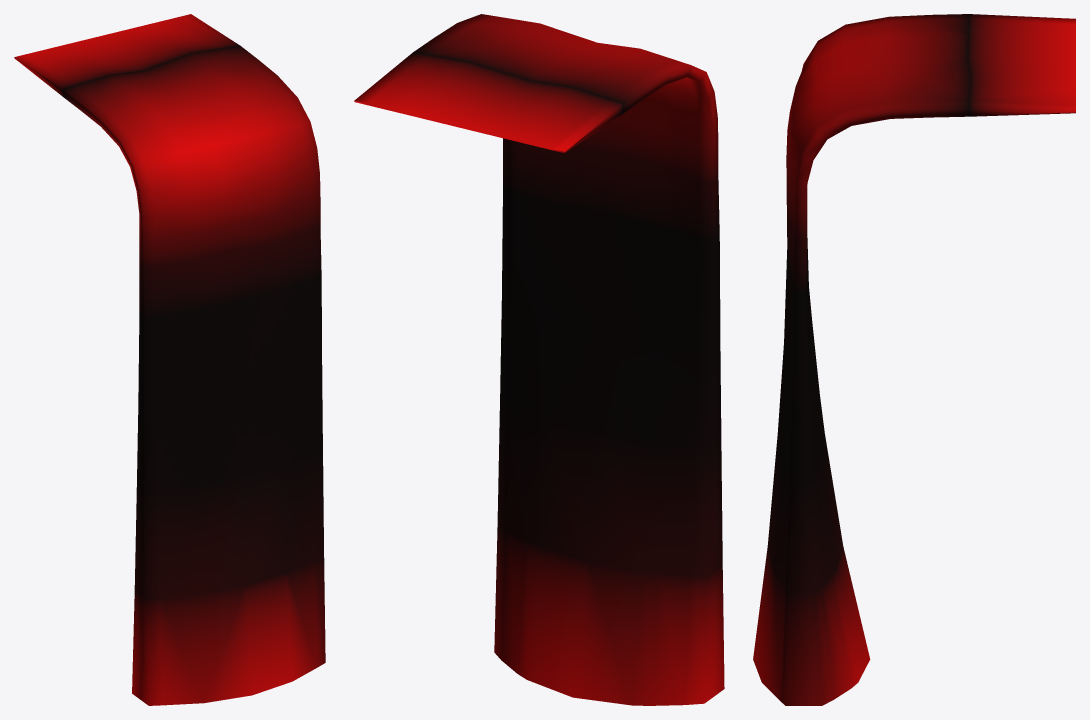
Rendered from WaterFall02.fbx.
The picture shows the model from 3 angles, left to right: view 1: azimuth 30°, elevation 25°; view 2: azimuth 150°, elevation 25°; view 3: azimuth 270°, elevation 25°; orthographic projection. The views are drawn at different scales.
Visible parts, largest first — view 1: WaterFall02; view 2: WaterFall02; view 3: WaterFall02.
Part boxes in pixels (left/top/right/bottom): WaterFall02: left=14, top=14, right=325, bottom=705; WaterFall02: left=354, top=14, right=724, bottom=705; WaterFall02: left=753, top=14, right=1075, bottom=705.
Size of the model in its own units: 100 by 302 by 147.
